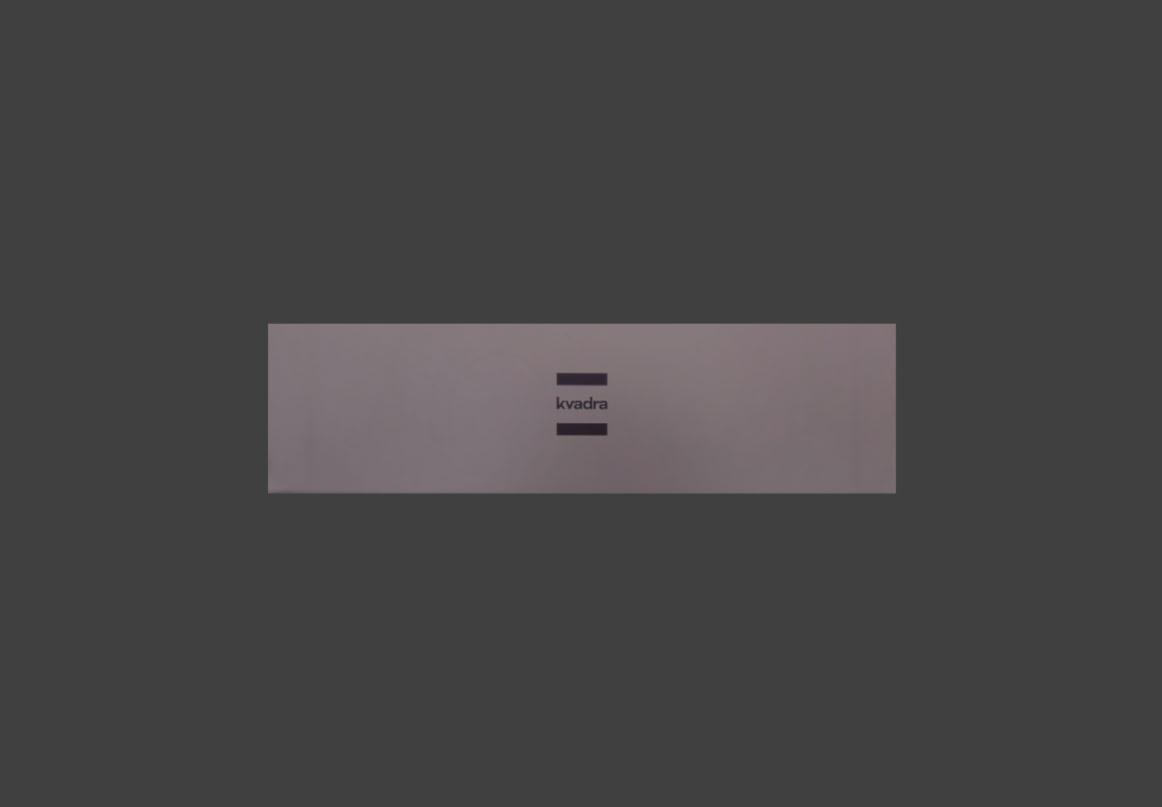tablet_left: (263, 316, 902, 494)
